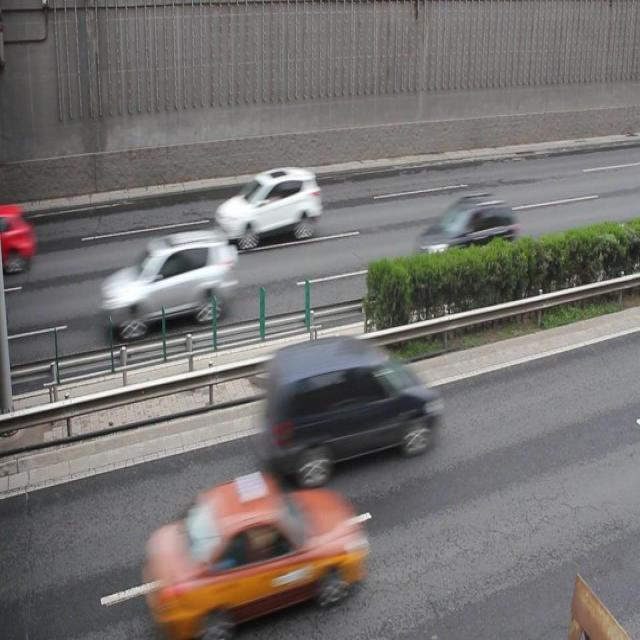car: (144, 471, 363, 626), (262, 335, 434, 479), (101, 229, 234, 335), (213, 165, 320, 248), (415, 195, 515, 272)
